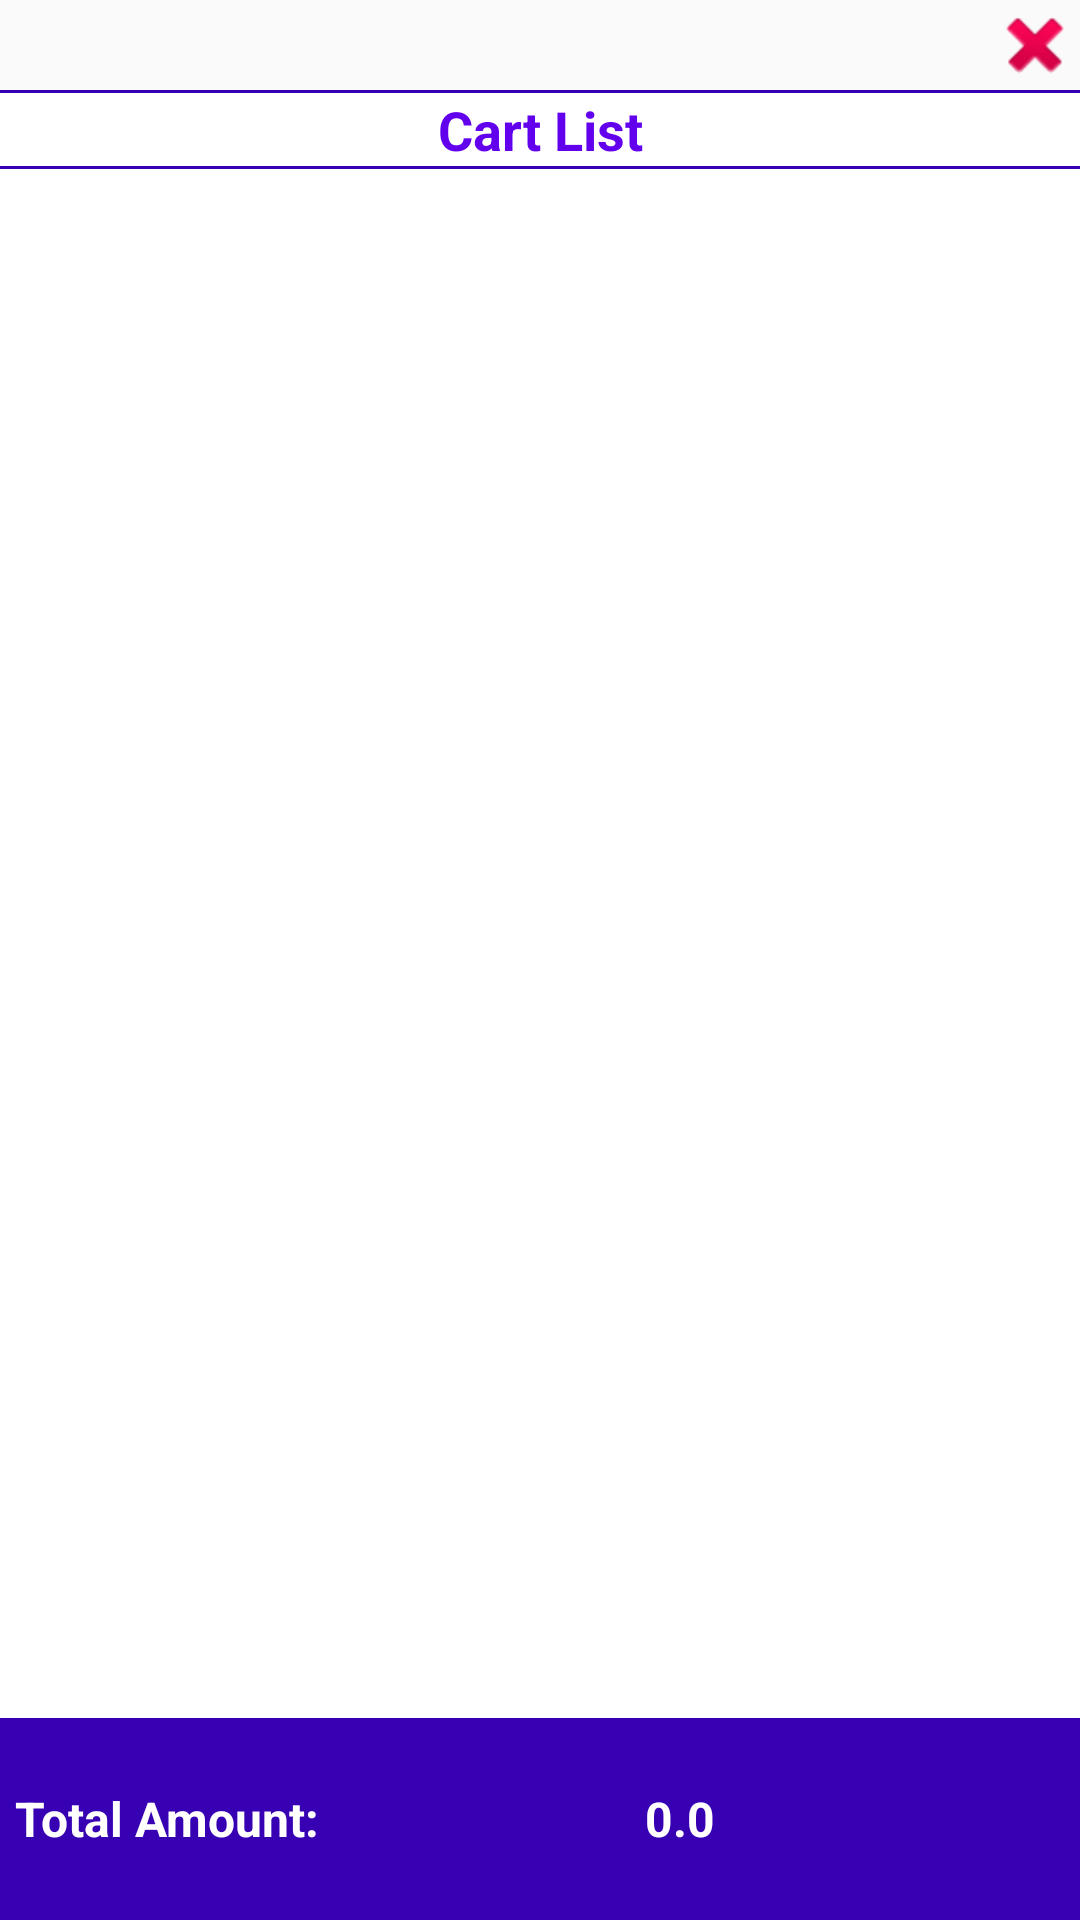

Named icons in this screenshot (1080x1920) and their bounding boxes, (x1, y1, x2, y2):
delete: (1006, 18, 1064, 73)
